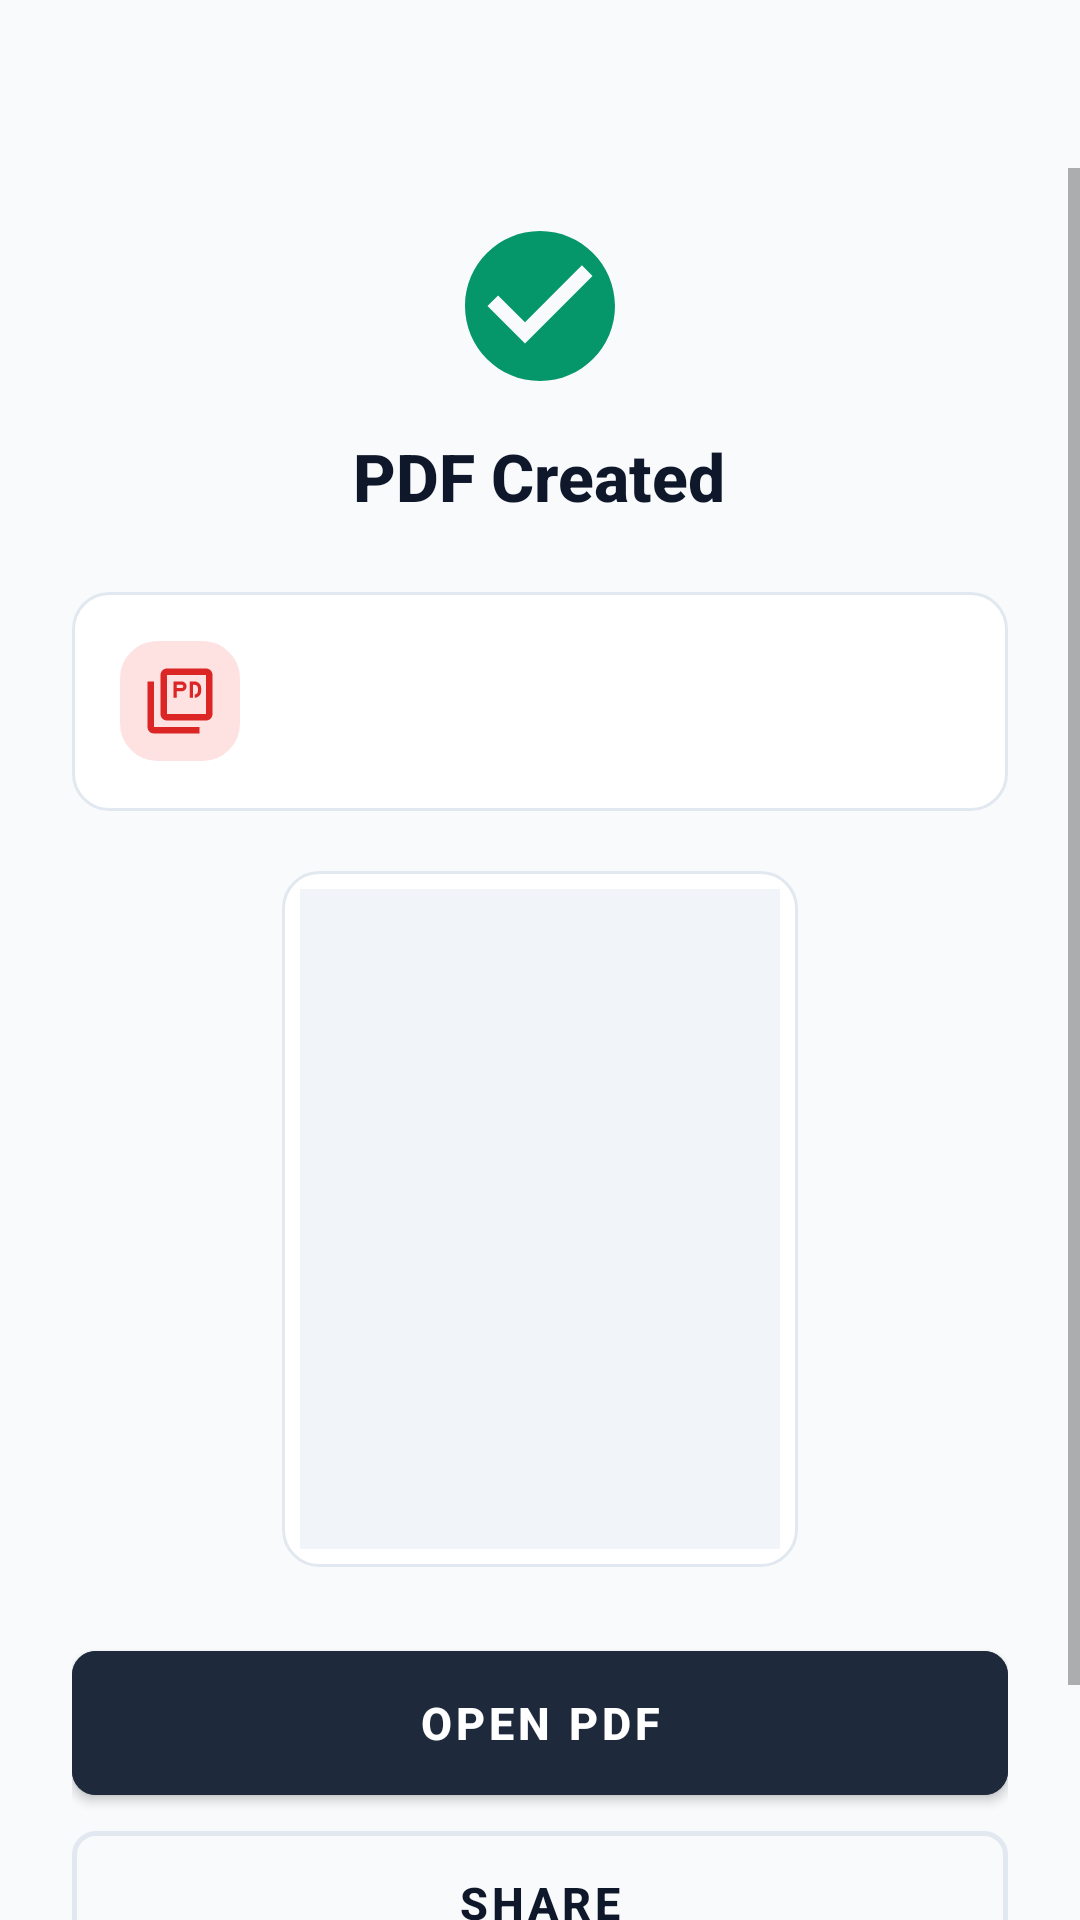

Icons on this 1080 × 1920 Android screen, each with the point to tap as [x,y]:
pdf file: [180,701]
Success: [540,306]
